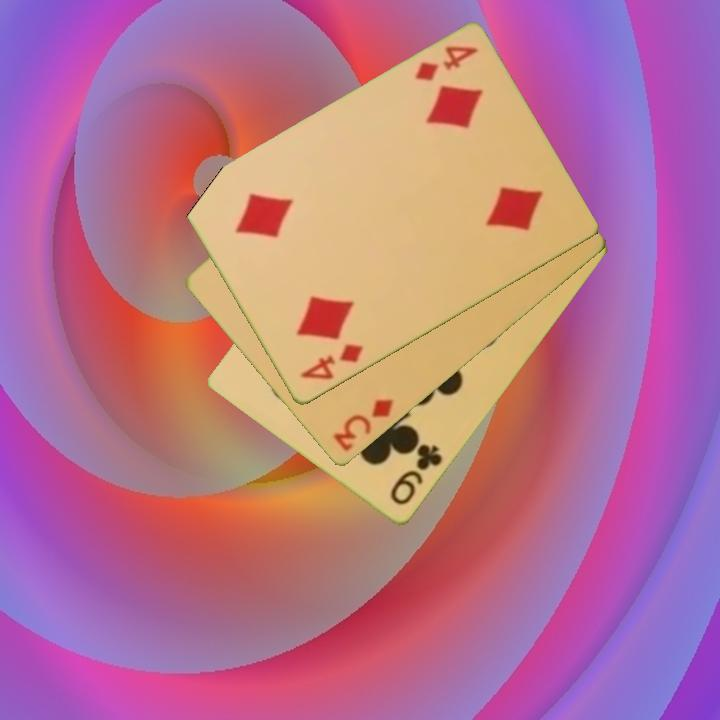3d: (329, 396, 397, 455)
4d: (297, 340, 367, 384), (410, 42, 481, 85)
9c: (386, 441, 446, 509)
